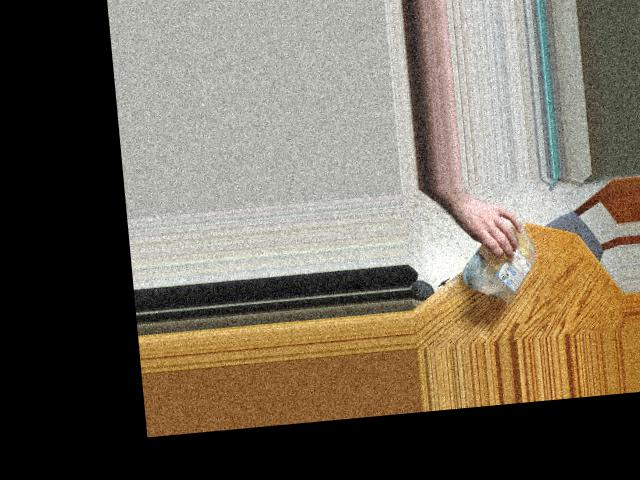cheese: (460, 206, 543, 307)
